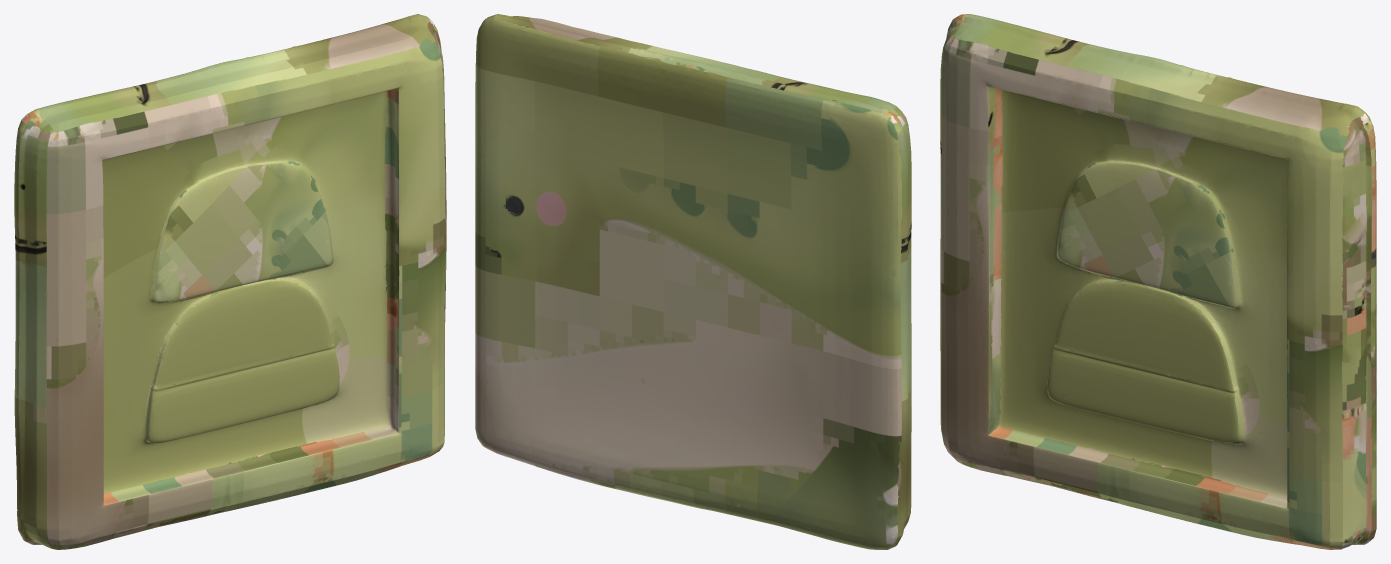
The model's file is Frame.fbx.
The picture shows the model from 3 angles, left to right: view 1: azimuth 30°, elevation 25°; view 2: azimuth 150°, elevation 25°; view 3: azimuth 330°, elevation 25°; orthographic projection.
Parts seen in each view (by area): view 1: model; view 2: model; view 3: model.
Part boxes in pixels (<box>): model: <box>14,14,446,549</box>; model: <box>475,14,911,549</box>; model: <box>940,14,1376,549</box>.
Bounding box in the file's own units: 190 × 188 × 23.17.
